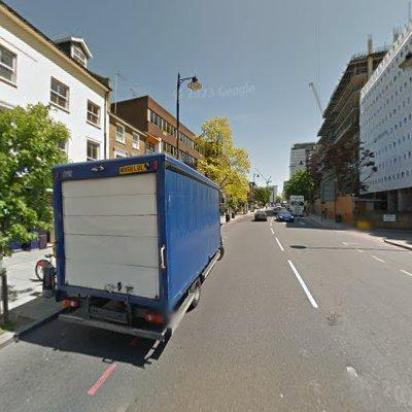moving-car: (276, 209, 294, 221), (254, 209, 267, 221), (272, 207, 282, 213)
moving-heavy-truck: (288, 195, 306, 217)
stationary-heavy-truck-onstreet: (51, 153, 225, 352)
